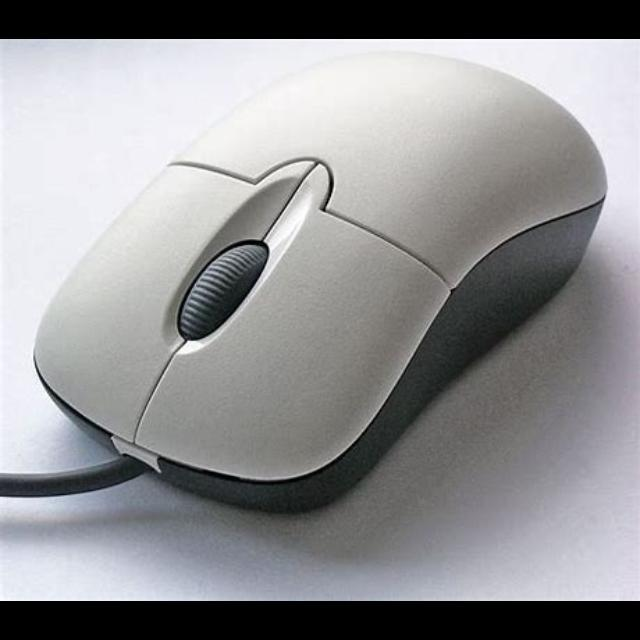Computer-Mouse: (32, 50, 609, 518)
